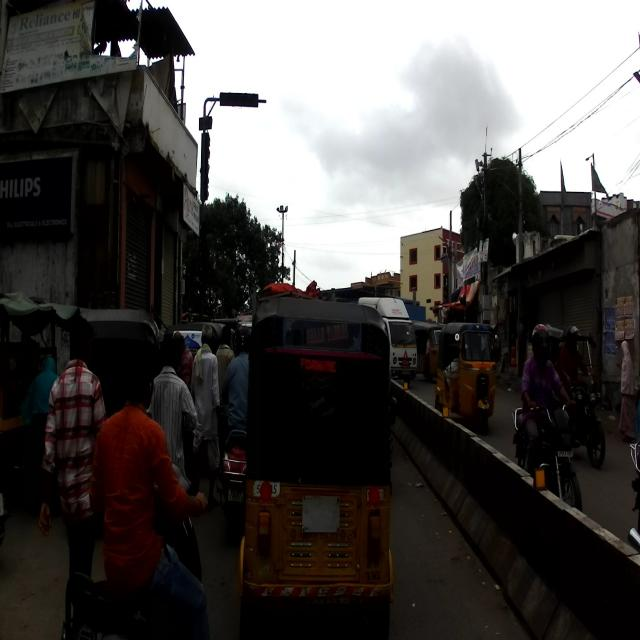autorickshaw: (236, 299, 396, 632), (82, 306, 162, 416), (434, 320, 502, 441), (538, 322, 599, 410)
motorcycle_Hero: (509, 391, 584, 517)
motorcycle_bajaj: (571, 367, 606, 470)
scooter: (61, 455, 211, 638), (213, 425, 248, 544)
